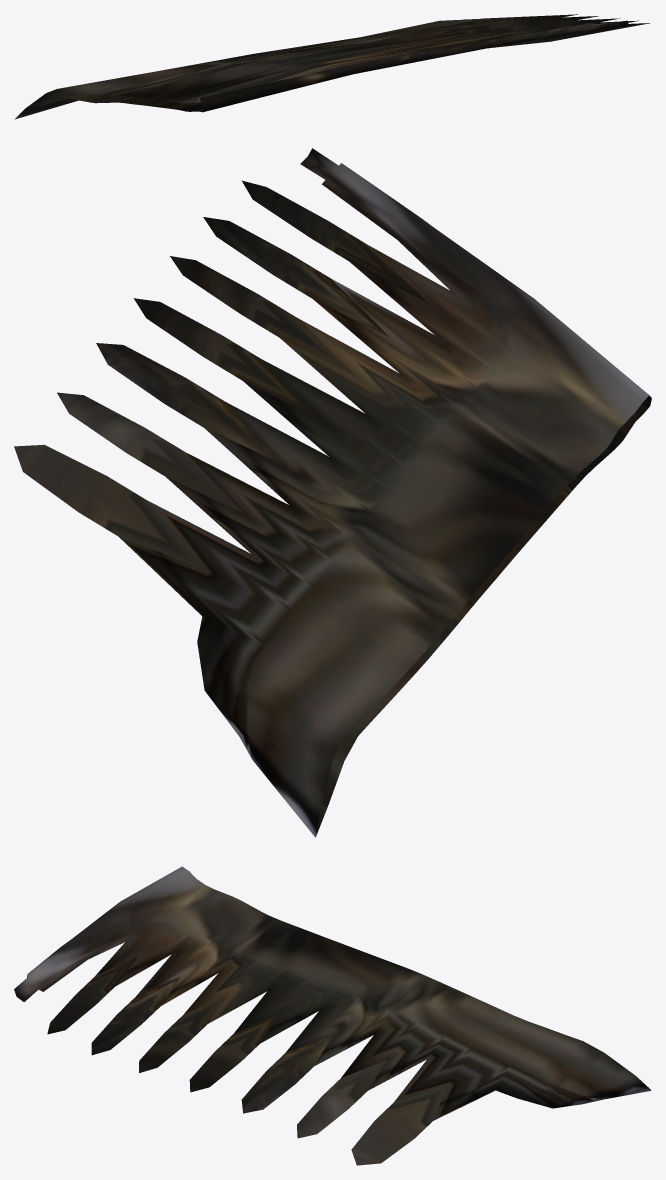
The model's file is right-wings-outer.obj.
The picture shows the model from 3 angles, top to bottom: view 1: azimuth 30°, elevation 25°; view 2: azimuth 150°, elevation 25°; view 3: azimuth 270°, elevation 25°; orthographic projection. The views are drawn at different scales.
Visible parts, largest first — view 1: Flugel_Plane.004; view 2: Flugel_Plane.004; view 3: Flugel_Plane.004.
Boxes of the visible parts, box(x1,y1,x2,y2) form: Flugel_Plane.004: box(14, 14, 650, 119); Flugel_Plane.004: box(14, 148, 651, 837); Flugel_Plane.004: box(14, 866, 651, 1165).
Size of the model in its own units: 3.07 by 1.73 by 3.87.
